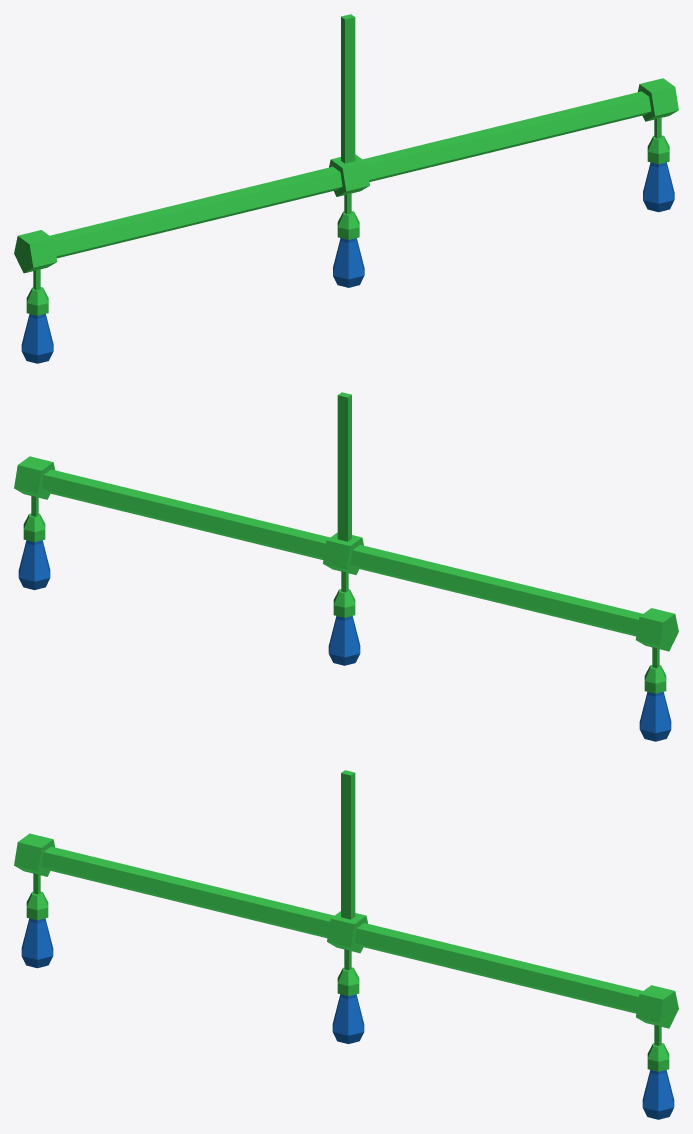
The model's file is SM_light.fbx.
3 renders of one model, top to bottom at view 1: azimuth 30°, elevation 25°; view 2: azimuth 150°, elevation 25°; view 3: azimuth 330°, elevation 25°, orthographic.
Visible parts, largest first — view 1: light; view 2: light; view 3: light.
Part boxes in pixels (x1=…): light: x1=14, y1=14, x2=678, y2=363; light: x1=14, y1=392, x2=678, y2=741; light: x1=14, y1=770, x2=678, y2=1119.
Bounding box in the file's own units: 157 × 62.38 × 8.08.
